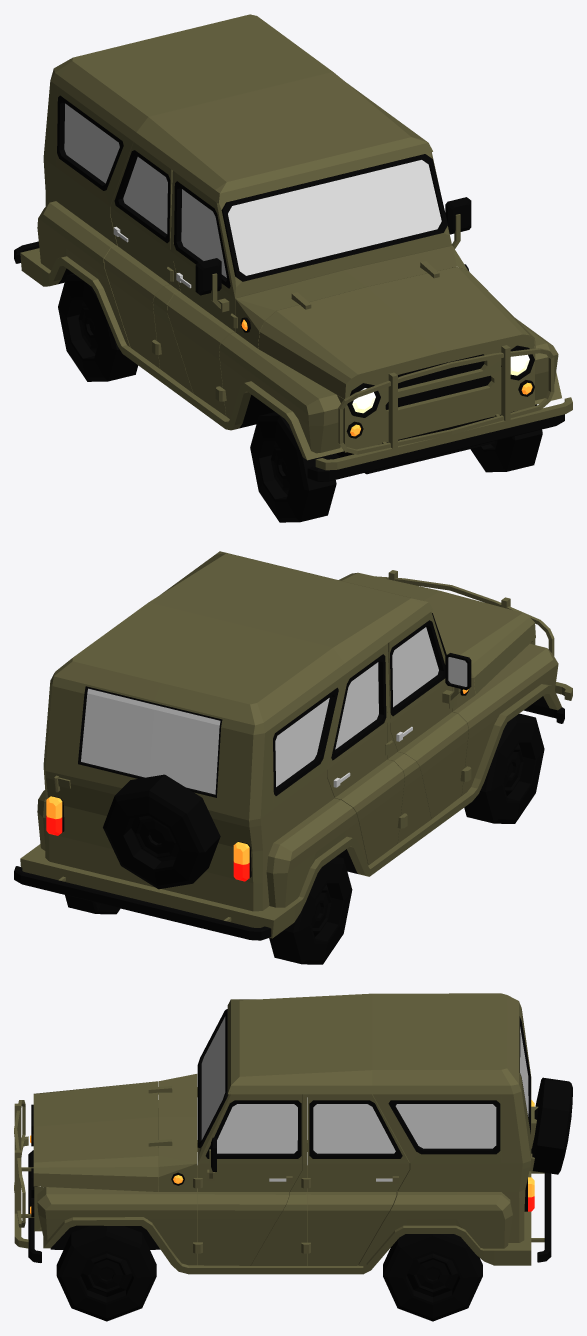
3 renders of one model, top to bottom at view 1: azimuth 30°, elevation 25°; view 2: azimuth 150°, elevation 25°; view 3: azimuth 270°, elevation 25°, orthographic. The views are drawn at different scales.
Parts seen in each view (by area): view 1: Soviet offroad vehicle body.002, soviet offroad wheel.002, soviet offroad wheel.003, soviet offroad wheel; view 2: Soviet offroad vehicle body.002, soviet offroad wheel.002, soviet offroad wheel.003, soviet offroad wheel.001; view 3: Soviet offroad vehicle body.002, soviet offroad wheel, soviet offroad wheel.001.
Boxes of the visible parts, bbox=[...] form: Soviet offroad vehicle body.002: bbox=[14, 14, 572, 481]; soviet offroad wheel.002: bbox=[250, 412, 336, 522]; soviet offroad wheel.003: bbox=[58, 273, 138, 381]; soviet offroad wheel: bbox=[470, 404, 542, 472]; Soviet offroad vehicle body.002: bbox=[14, 551, 572, 940]; soviet offroad wheel.002: bbox=[464, 713, 544, 823]; soviet offroad wheel.003: bbox=[269, 856, 352, 964]; soviet offroad wheel.001: bbox=[65, 895, 120, 914]; Soviet offroad vehicle body.002: bbox=[14, 993, 572, 1274]; soviet offroad wheel: bbox=[56, 1225, 156, 1321]; soviet offroad wheel.001: bbox=[383, 1234, 482, 1321].
Bounding box in the file's own units: 296 × 295 × 618.
